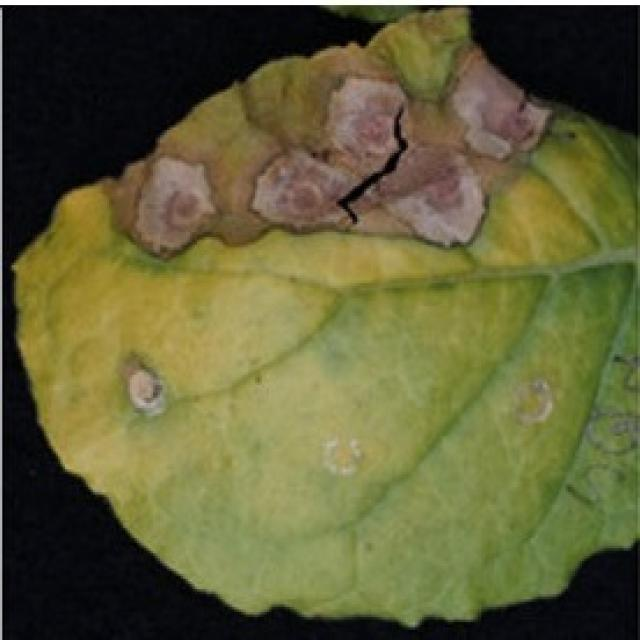Fusarium Wilt: (86, 5, 571, 262)
